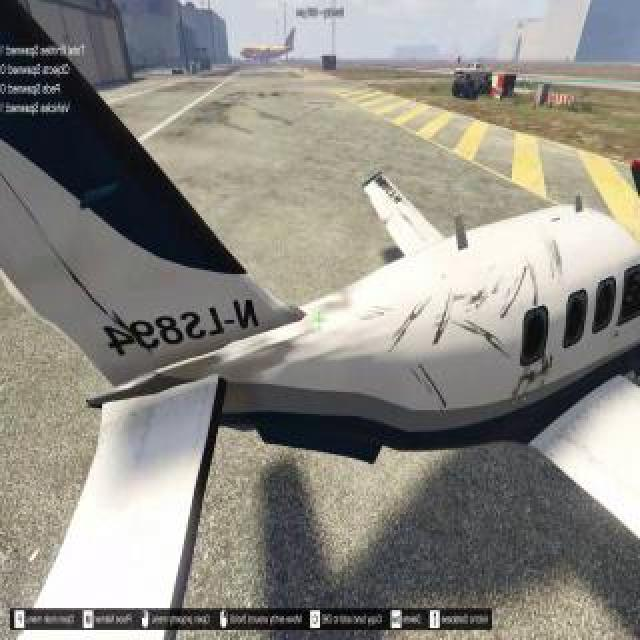dent: (502, 267, 529, 320), (466, 321, 506, 356), (420, 366, 447, 410), (434, 295, 452, 349), (525, 356, 553, 383), (534, 276, 538, 307), (409, 312, 416, 322)
